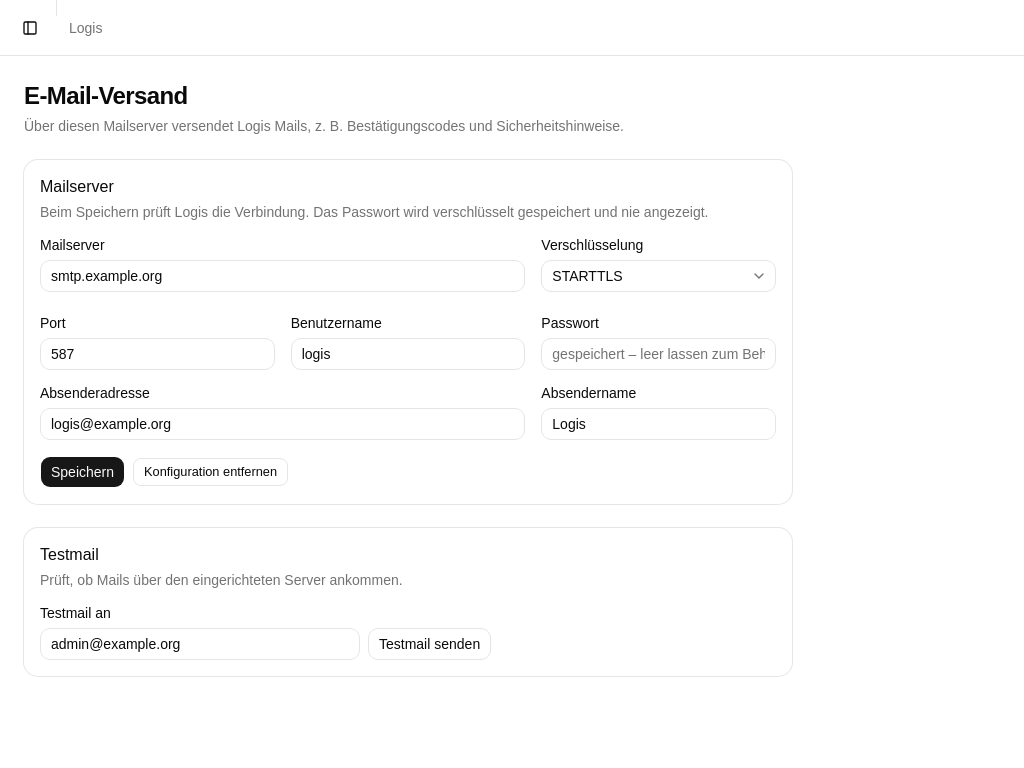
Test: Outgoing mail server › shows the server message
Click the button "Speichern" at (82, 472), box [40, 456, 125, 488]
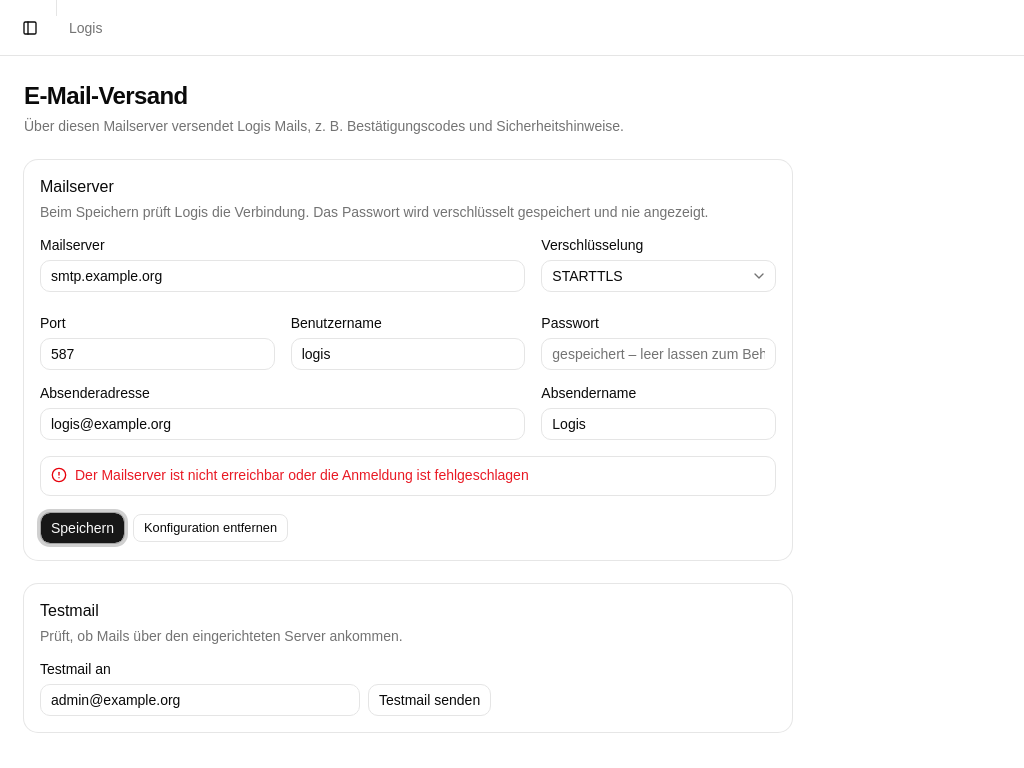
expect the text "Der Mailserver ist nicht erreichbar oder die Anmeldung ist fehlgeschlagen" is shown: met, box [75, 467, 529, 483]
